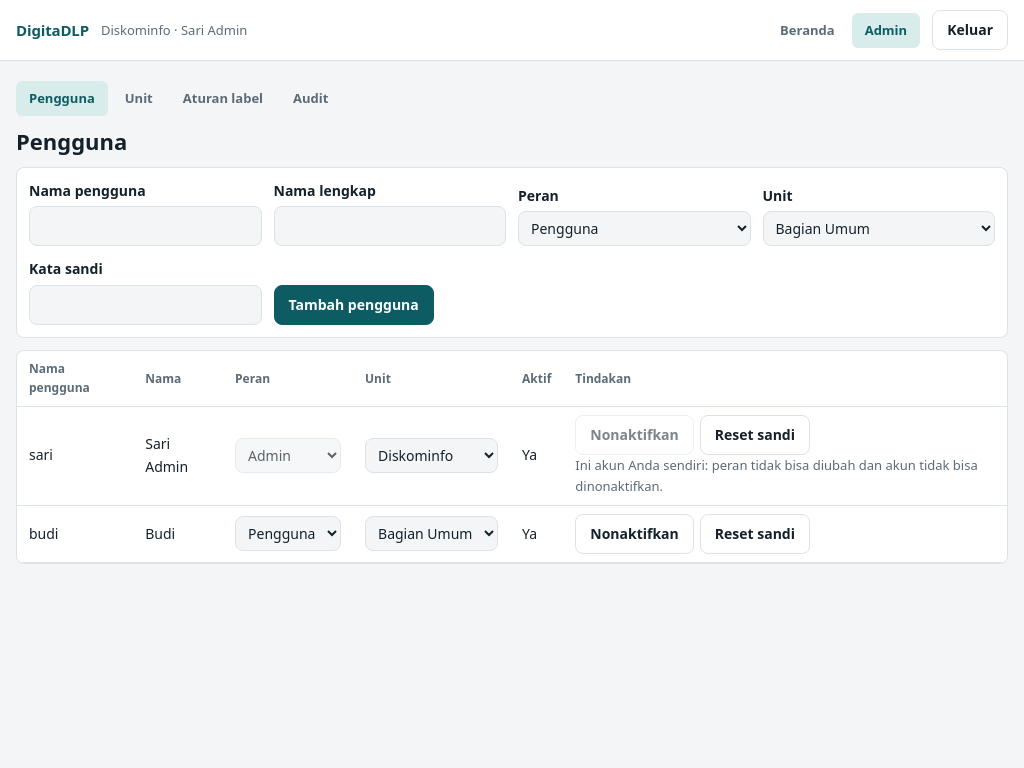
Scenario: reset password dialog validates, sends, and clears
Expected: the text "budi" is shown, [17, 505, 133, 562]
Click the 2nd button "Reset sandi" at (755, 534), box [700, 514, 810, 554]
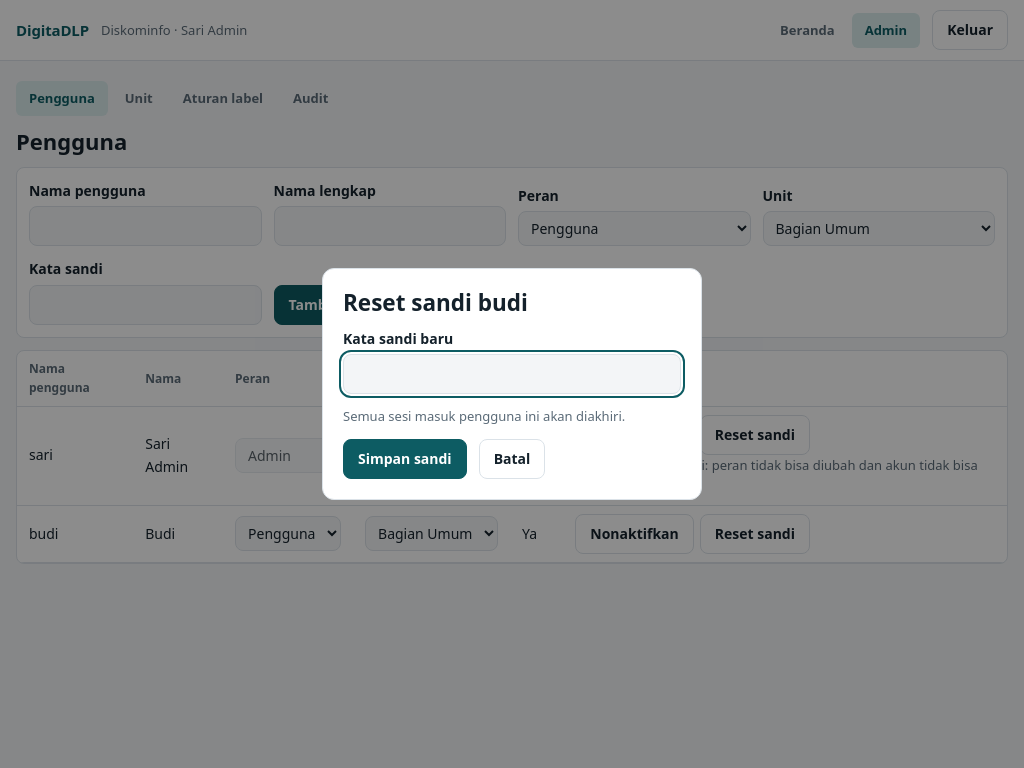
Type "pendek" into the password field labelled "Kata sandi baru" at (512, 374), box [343, 354, 681, 394]
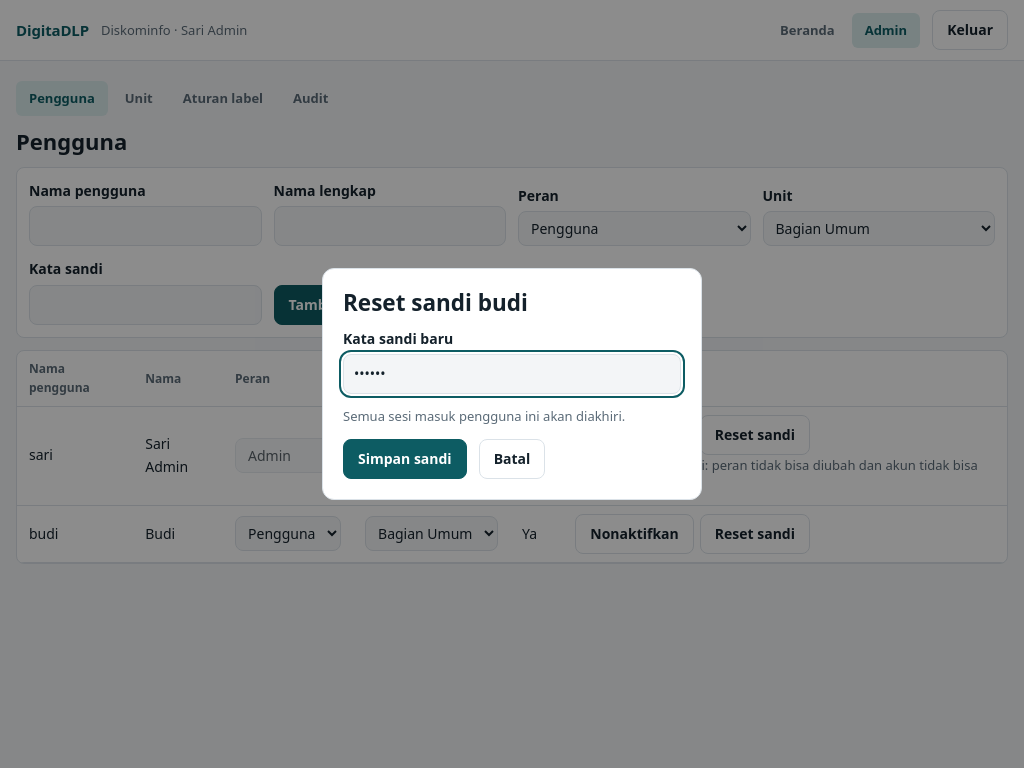
Click the button "Simpan sandi" at (405, 459), box [343, 439, 467, 480]
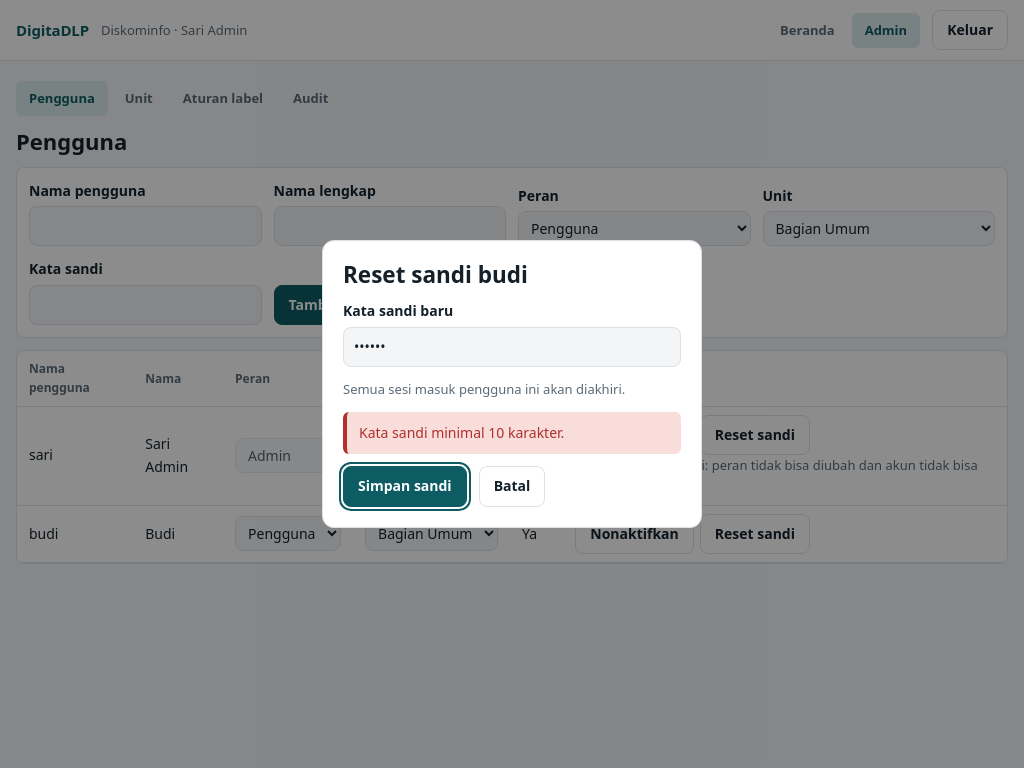
Expected: the message reads "Kata sandi minimal 10 karakter.", [359, 423, 564, 442]
Type "sandi-baru-123" into the password field labelled "Kata sandi baru" at (512, 347), box [343, 327, 681, 367]
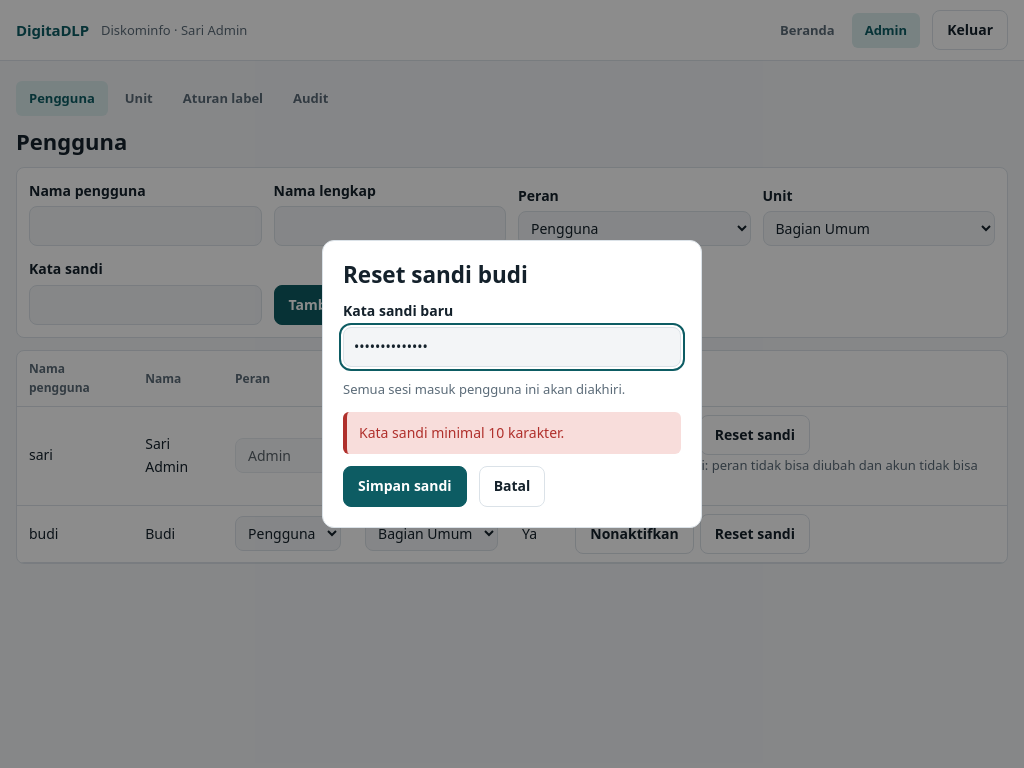
Click the button "Simpan sandi" at (405, 486), box [343, 466, 467, 507]
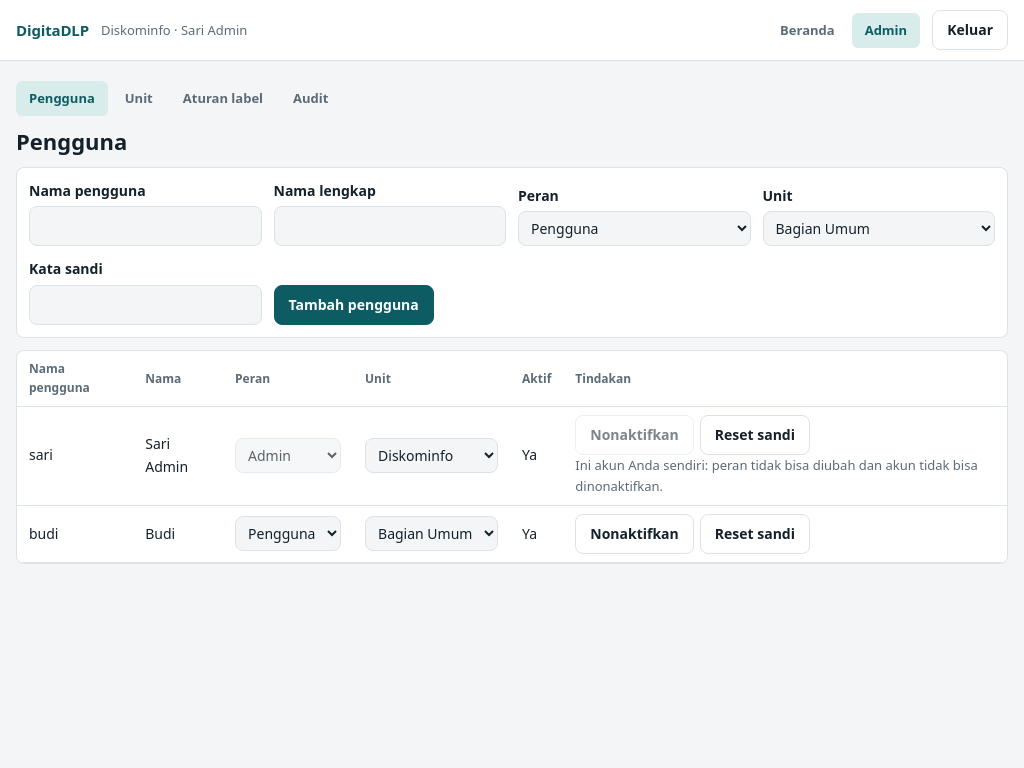
Expected: the dialog is gone
